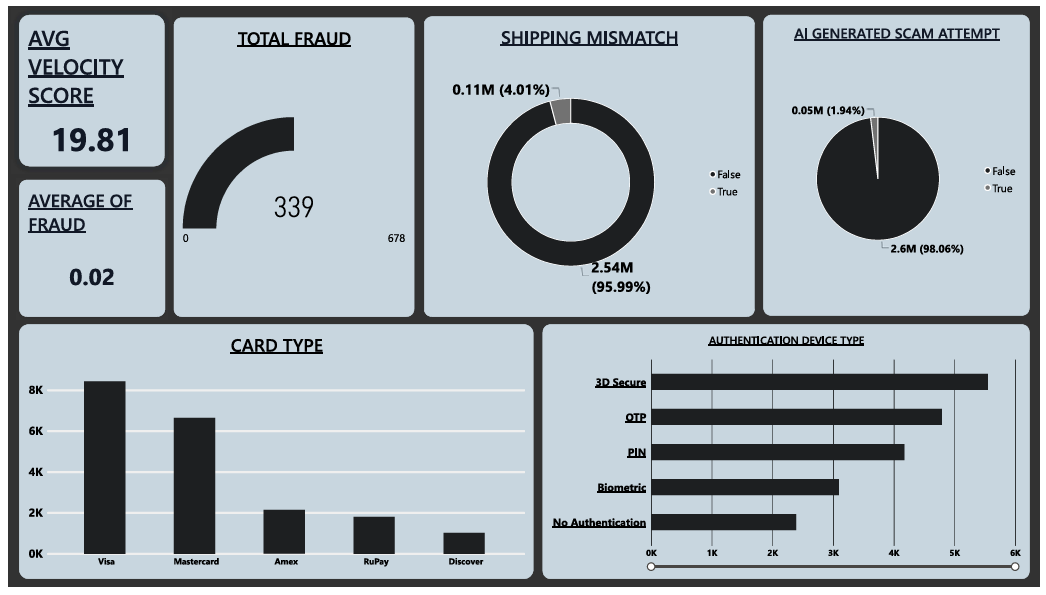

This screenshot's page, from the dashboard's own definition file:
{"tool":"powerbi","page":{"name":"Page 1","canvas":[1920,1080],"ordinal":0},"visuals":[{"type":"clusteredColumnChart","title":"CARD TYPE","fields":{"Category":["credit card fraud.card_type"],"Y":["CountNonNull(credit card fraud.card_type)"]},"box":[18.5,592.4,958.6,473.1],"z":0},{"type":"gauge","title":"TOTAL FRAUD","fields":{"Y":["Sum(credit card fraud.is_fraud)"]},"box":[306.5,20.6,448.4,557.5],"z":1000},{"type":"pieChart","title":"AI GENERATED SCAM ATTEMPT","fields":{"Category":["credit card fraud.is_ai_generated_scam_attempt"],"Y":["Sum(credit card fraud.amount_usd)"]},"box":[1405,16.5,495.8,559.5],"z":2000},{"type":"donutChart","title":"SHIPPING MISMATCH","fields":{"Category":["credit card fraud.billing_shipping_mismatch"],"Y":["Sum(credit card fraud.amount_usd)"]},"box":[773.5,18.5,615.1,559.5],"z":3000},{"type":"card","title":"AVG VELOCITY SCORE","fields":{"Values":["Avg(credit card fraud.velocity_score)"]},"box":[18.5,16.5,271.5,281.8],"z":4000},{"type":"card","title":"AVERAGE OF FRAUD","fields":{"Values":["Avg(credit card fraud.is_fraud)"]},"box":[18.5,323,272.3,255],"z":5000},{"type":"barChart","title":"AUTHENTICATION DEVICE TYPE","fields":{"Category":["credit card fraud.auth_method"],"Y":["CountNonNull(credit card fraud.device_type)"]},"box":[993.6,592.4,907.2,473.1],"z":6000}]}

Visuals, with their boxes in screenshot pixels (x1, y1, x2, y2), scaled from the page's 1920x1080 canvas onto the 1046x595 screenshot:
"CARD TYPE" clusteredColumnChart: l=10, t=326, r=532, b=587
"TOTAL FRAUD" gauge: l=167, t=11, r=411, b=318
"AI GENERATED SCAM ATTEMPT" pieChart: l=765, t=9, r=1036, b=317
"SHIPPING MISMATCH" donutChart: l=421, t=10, r=756, b=318
"AVG VELOCITY SCORE" card: l=10, t=9, r=158, b=164
"AVERAGE OF FRAUD" card: l=10, t=178, r=158, b=318
"AUTHENTICATION DEVICE TYPE" barChart: l=541, t=326, r=1036, b=587
